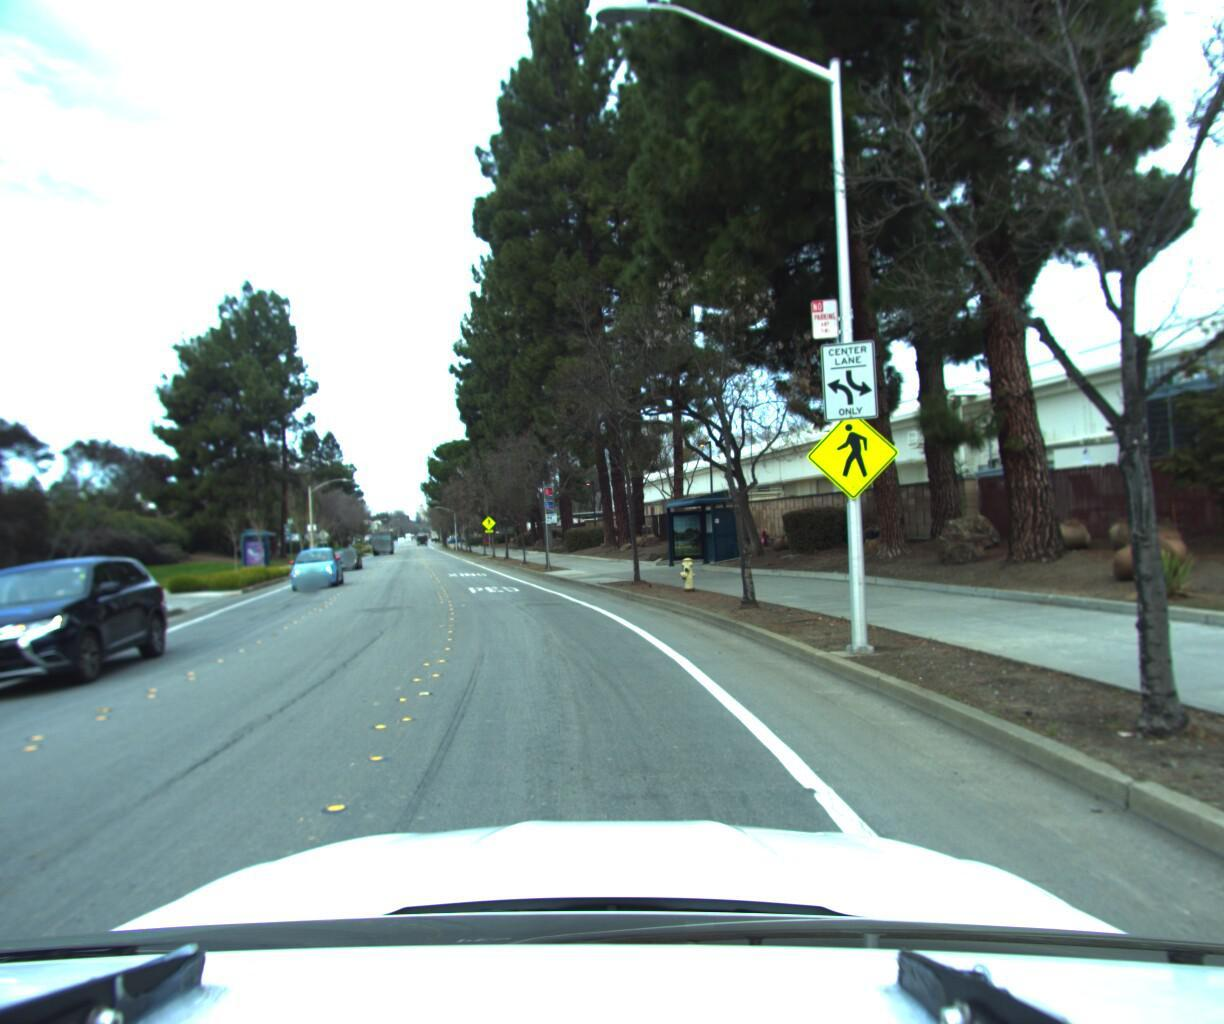car: (0, 550, 175, 726), (283, 544, 347, 594), (326, 545, 363, 573)
